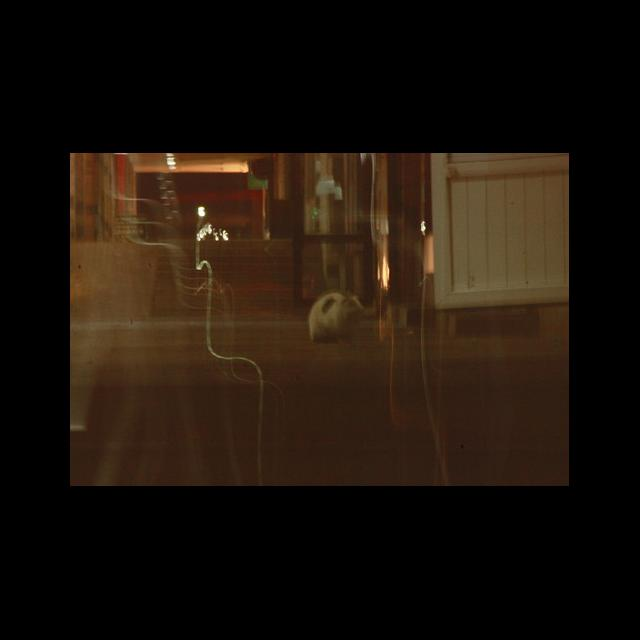animals: (303, 289, 371, 344)
